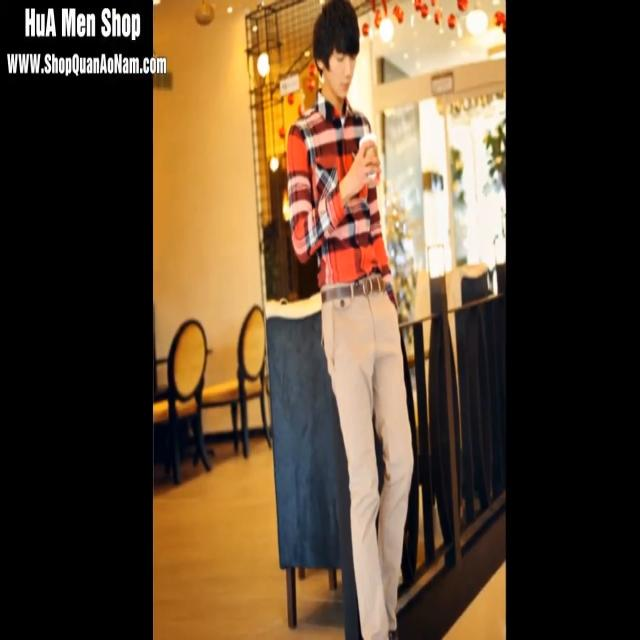shirt: (286, 86, 392, 288)
